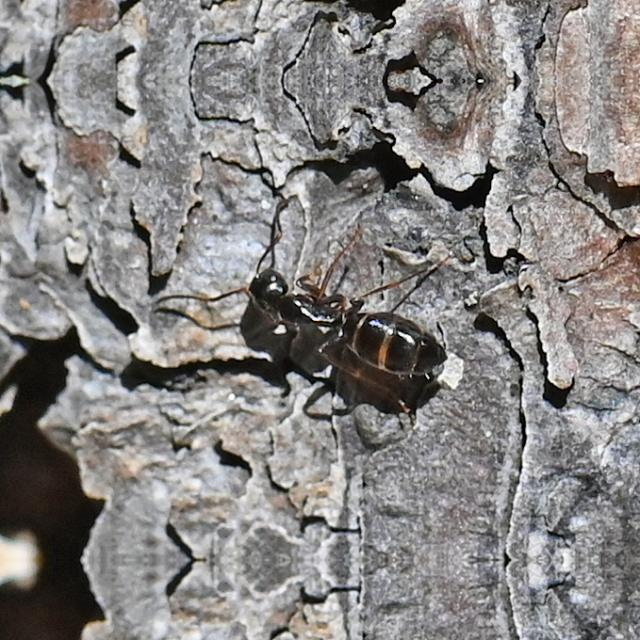Camponotus: (207, 236, 463, 392)
